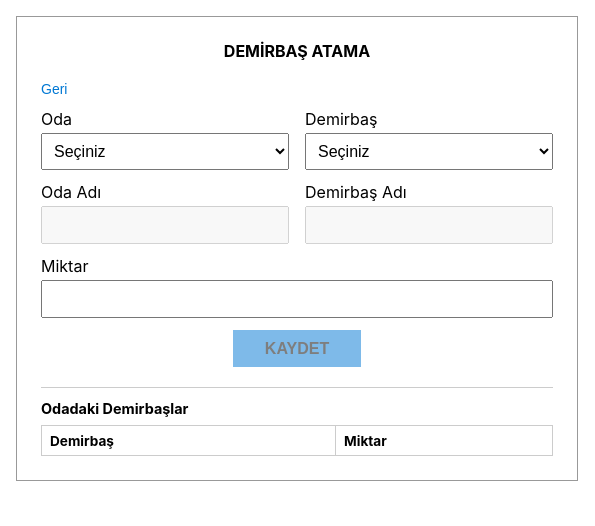
Scenario: AssetAssignment › shows the server's own message when createAssetAssignment rejects with an INSUFFICIENT_STOCK ApiError
Select "Toplantı Odası" in the dropdown labelled "Oda" at x=165, y=152, box [41, 133, 289, 170]
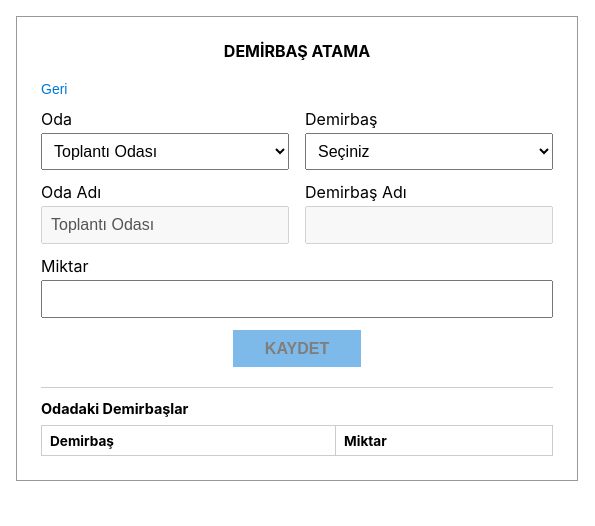
Select "Sandalye" in the dropdown labelled "Demirbaş" at x=429, y=152, box [305, 133, 553, 170]
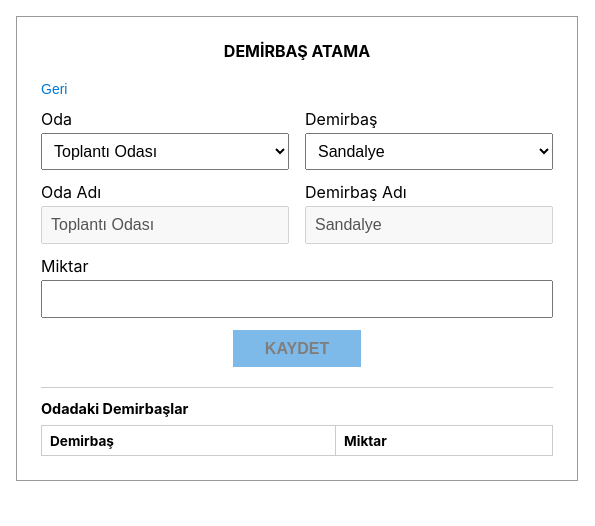
Type "3" into the field labelled "Miktar" at x=297, y=299, box [41, 280, 553, 318]
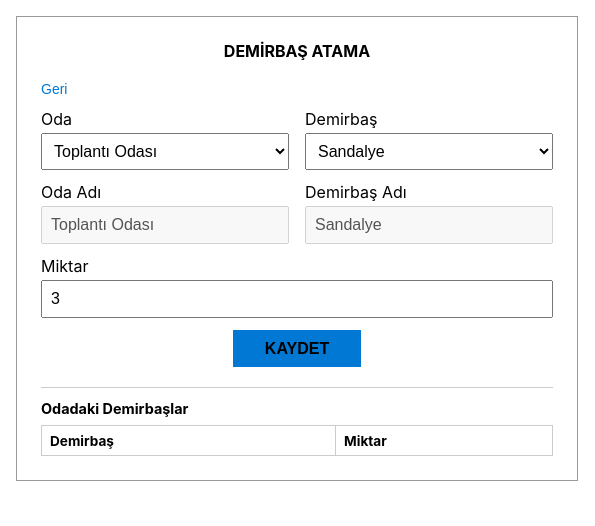
Click the button "KAYDET" at x=297, y=349, box [233, 330, 361, 367]
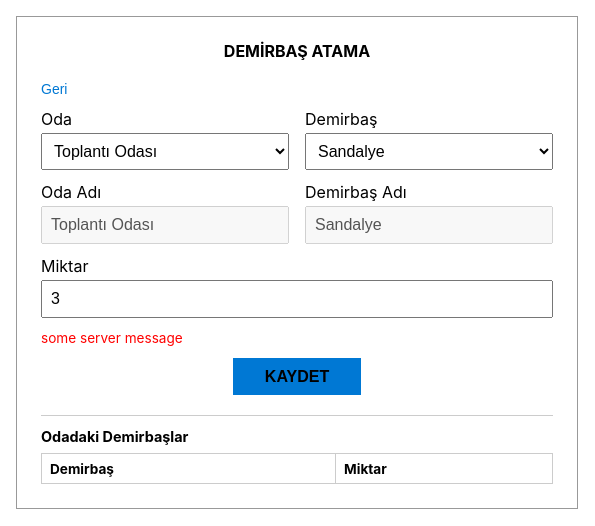
Result: the text "some server message" is shown at [41, 330, 183, 346]
